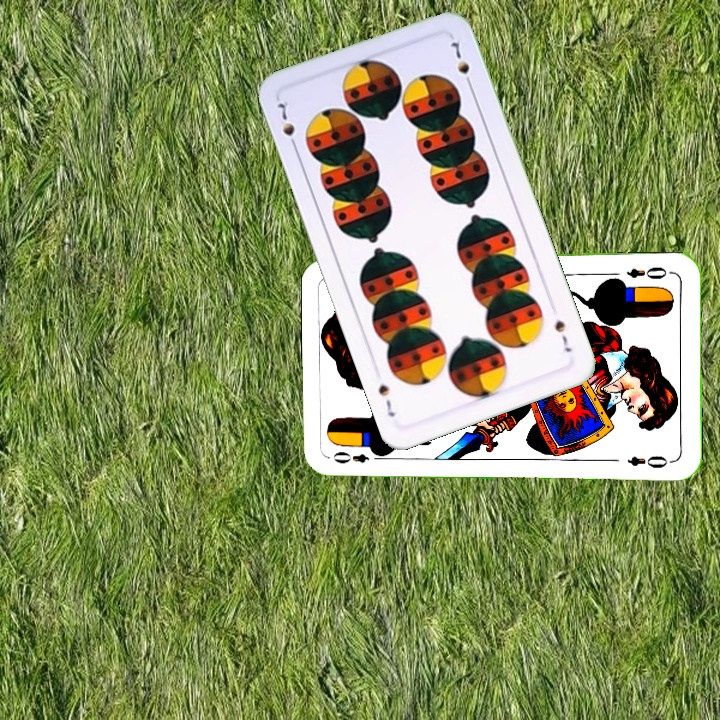EO: (329, 446, 386, 466), (622, 262, 669, 282)
S7: (273, 97, 300, 153), (550, 316, 574, 355)
